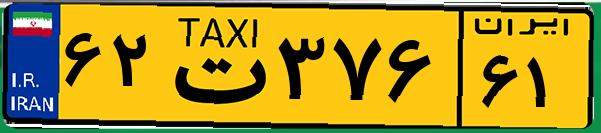1: (525, 38, 570, 115)
2: (110, 28, 158, 98)
3: (270, 28, 330, 110)
6: (385, 28, 445, 110), (57, 26, 110, 100), (475, 38, 525, 113)
7: (330, 28, 385, 110)
ت: (158, 12, 270, 120)
